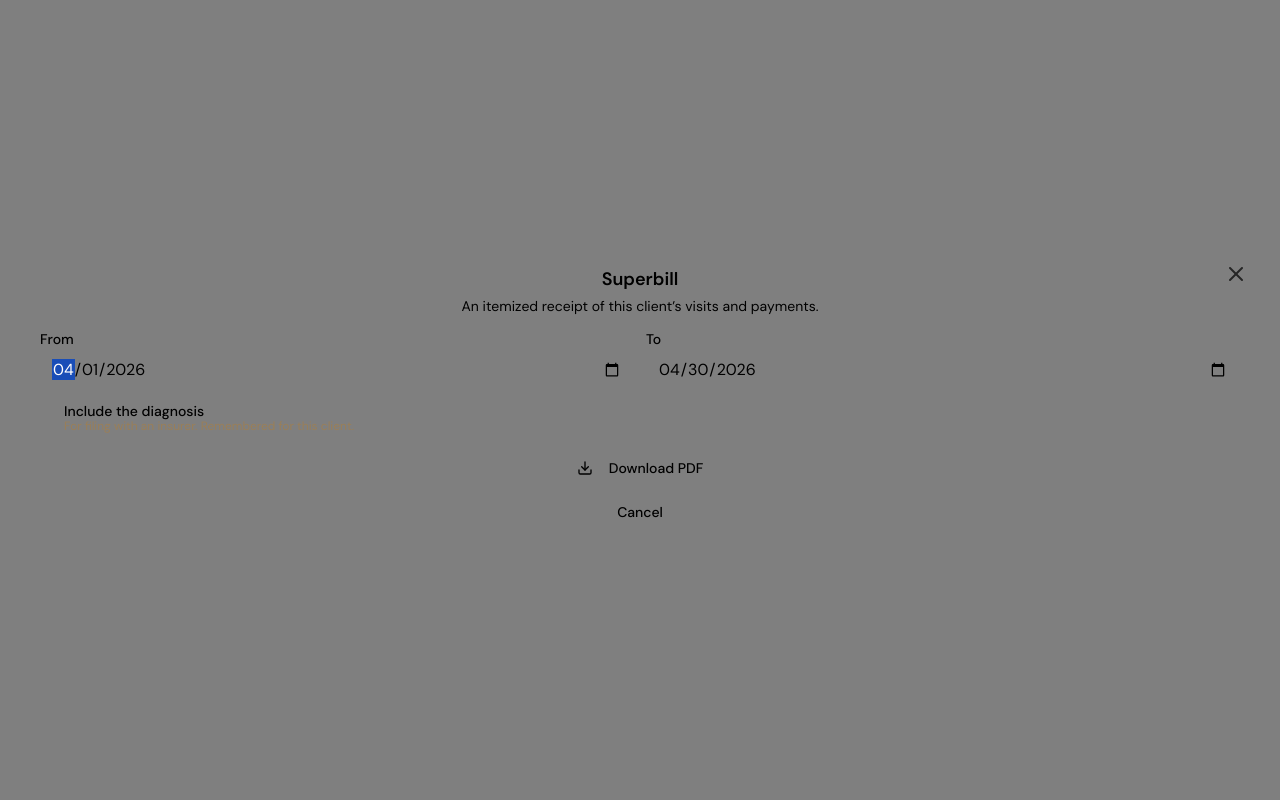
Test: SuperbillDialog › catches an end date before the start without asking the server
Step 1. Type "2026-03-01" into the date field labelled "To" → (943, 370), box x1=646 y1=352 x2=1240 y2=388
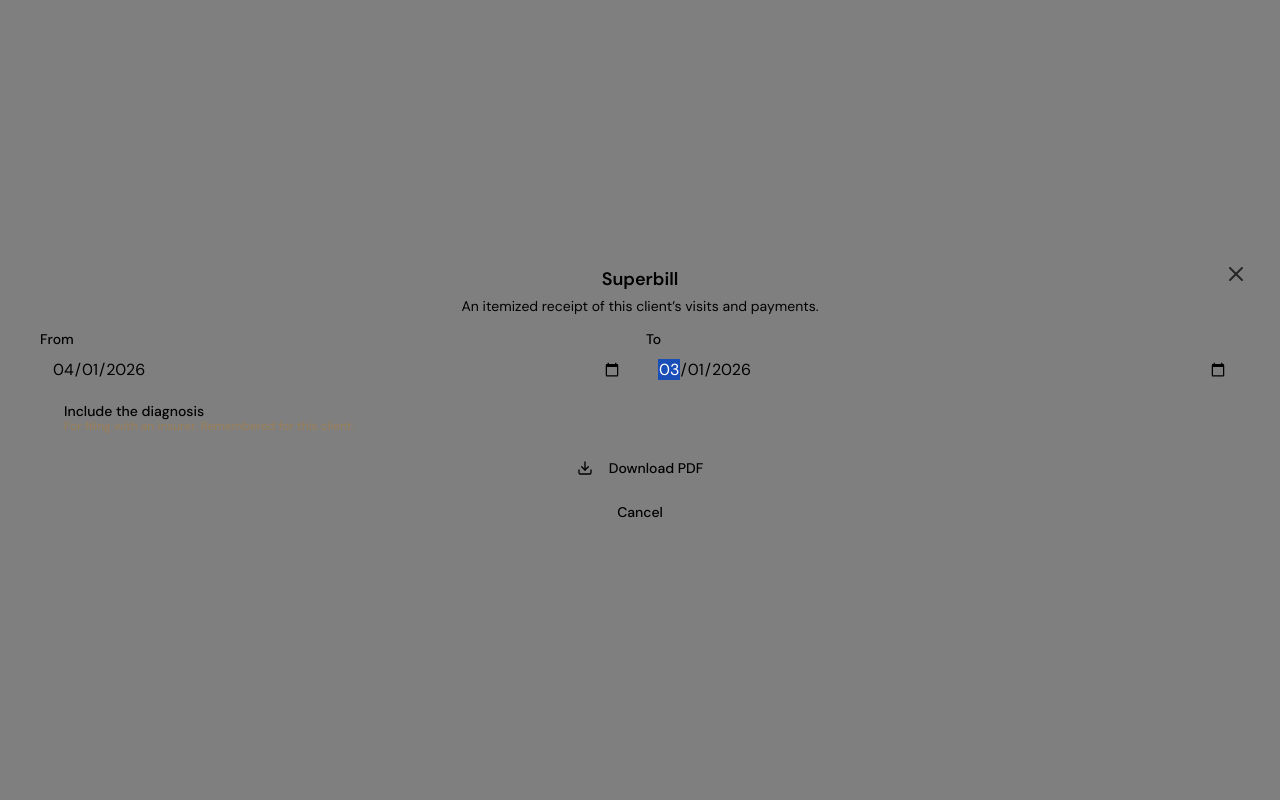
Step 2. Click the button "Download PDF" → (640, 468), box x1=40 y1=450 x2=1240 y2=486
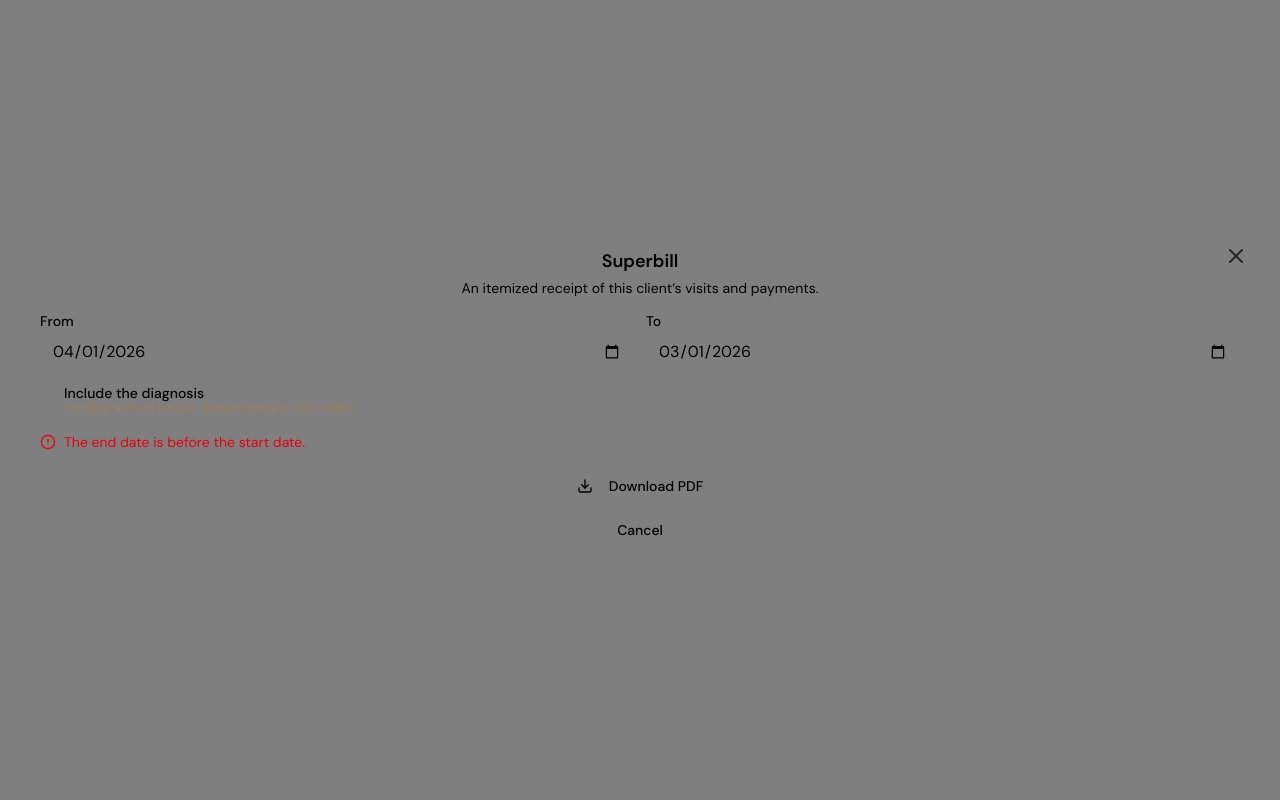
expect the message reads "The end date is before the start date.": met, box x1=64 y1=433 x2=305 y2=451
